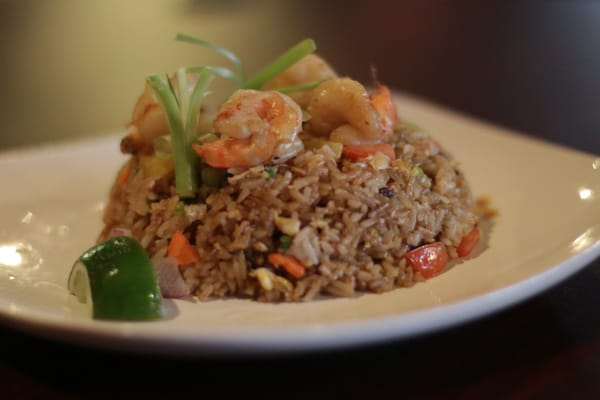sushi: (10, 23, 600, 370)
